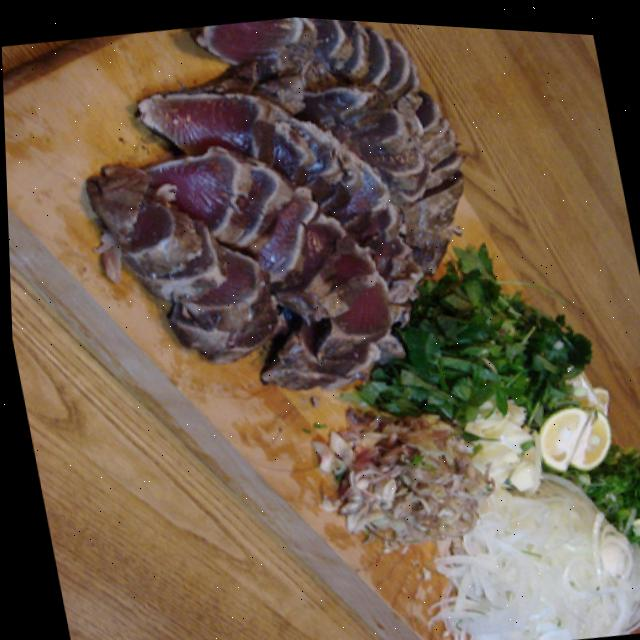熟制海鲜: (77, 4, 555, 500)
